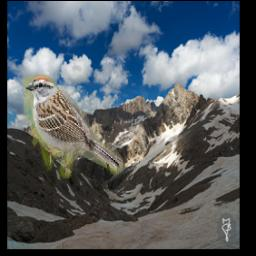Sparrow: (24, 76, 123, 179)
